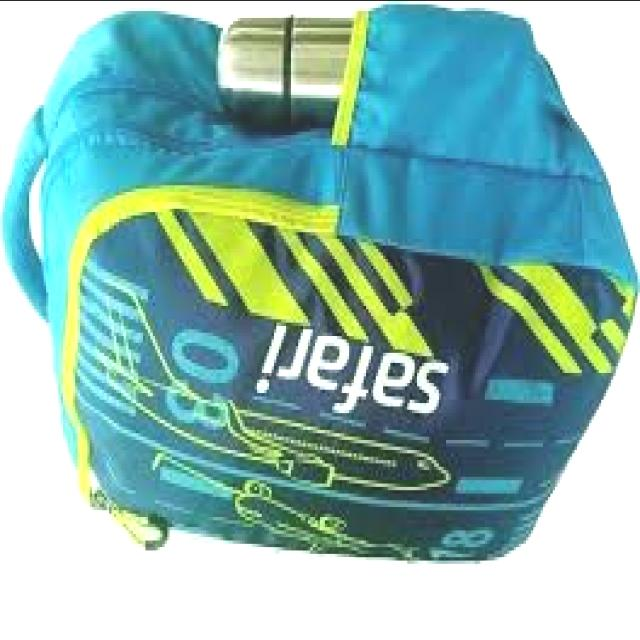backpack: (1, 5, 639, 568)
